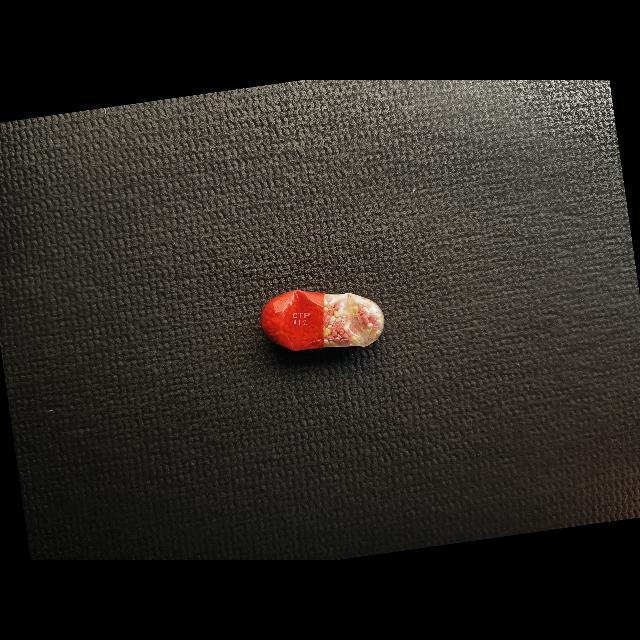Defective Capsule: (260, 290, 384, 351)
